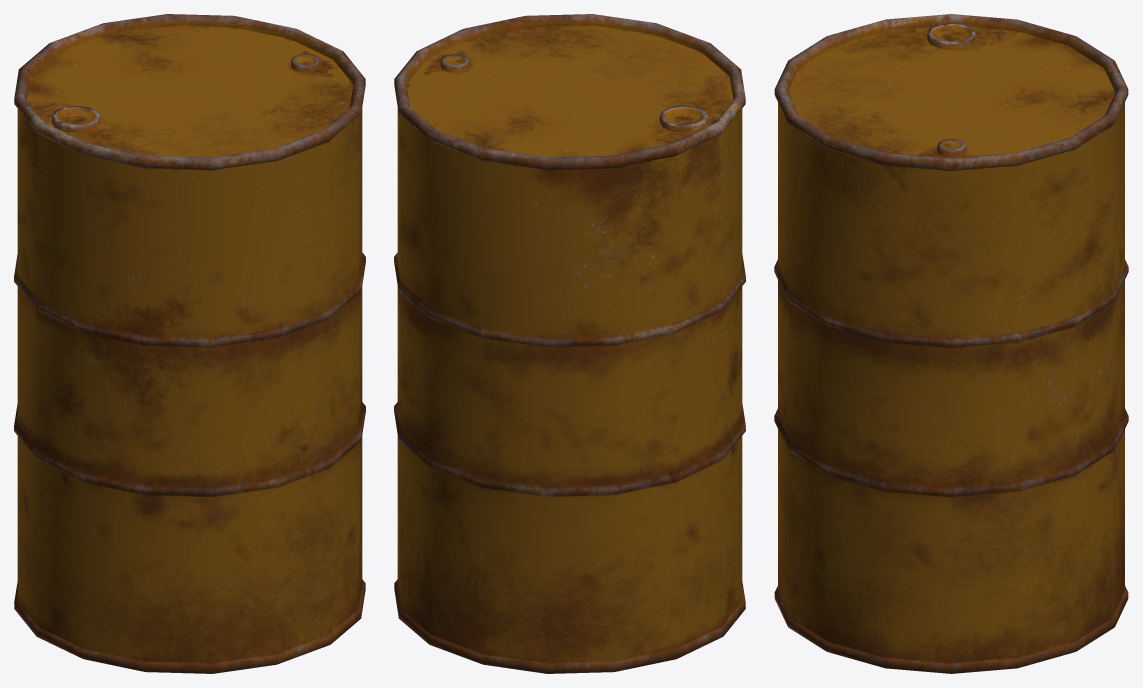
The model's file is uploads_files_3933170_Barrel_low.fbx.
3 renders of one model, left to right at view 1: azimuth 30°, elevation 25°; view 2: azimuth 150°, elevation 25°; view 3: azimuth 270°, elevation 25°, orthographic.
Visible parts, largest first — view 1: barrel_low; view 2: barrel_low; view 3: barrel_low.
Part boxes in pixels (x1=…): barrel_low: x1=14, y1=14, x2=365, y2=673; barrel_low: x1=394, y1=14, x2=745, y2=673; barrel_low: x1=774, y1=14, x2=1128, y2=673.
Bounding box in the file's own units: 57.67 × 92.43 × 57.67.
